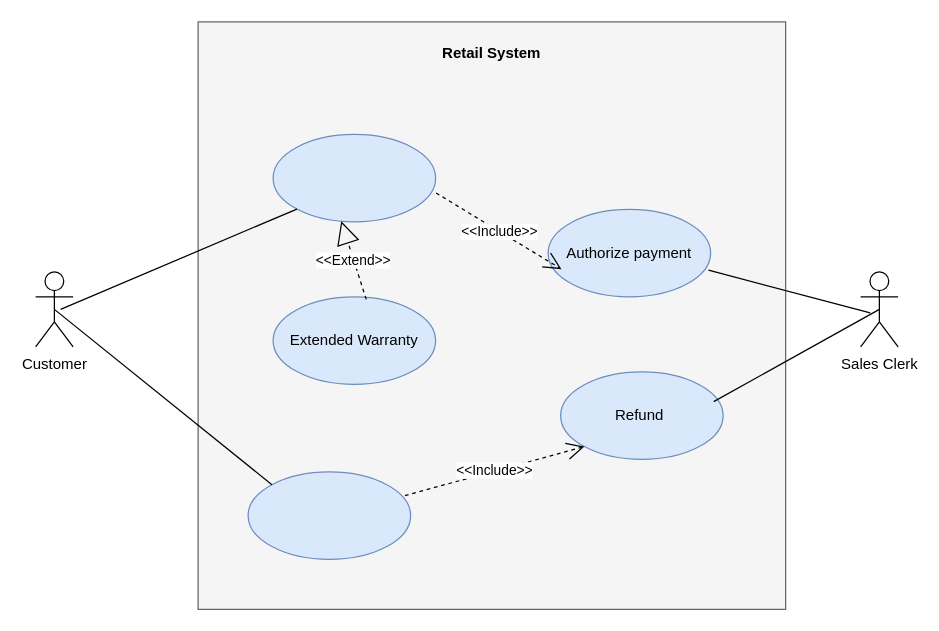
The diagram is 939 pixels wide and 631 high, and some of its shapes have lost their labels. Each missing label, with the box of its shape:
Makes Purchase: (272, 133, 436, 222)
Return Items: (247, 471, 411, 559)
